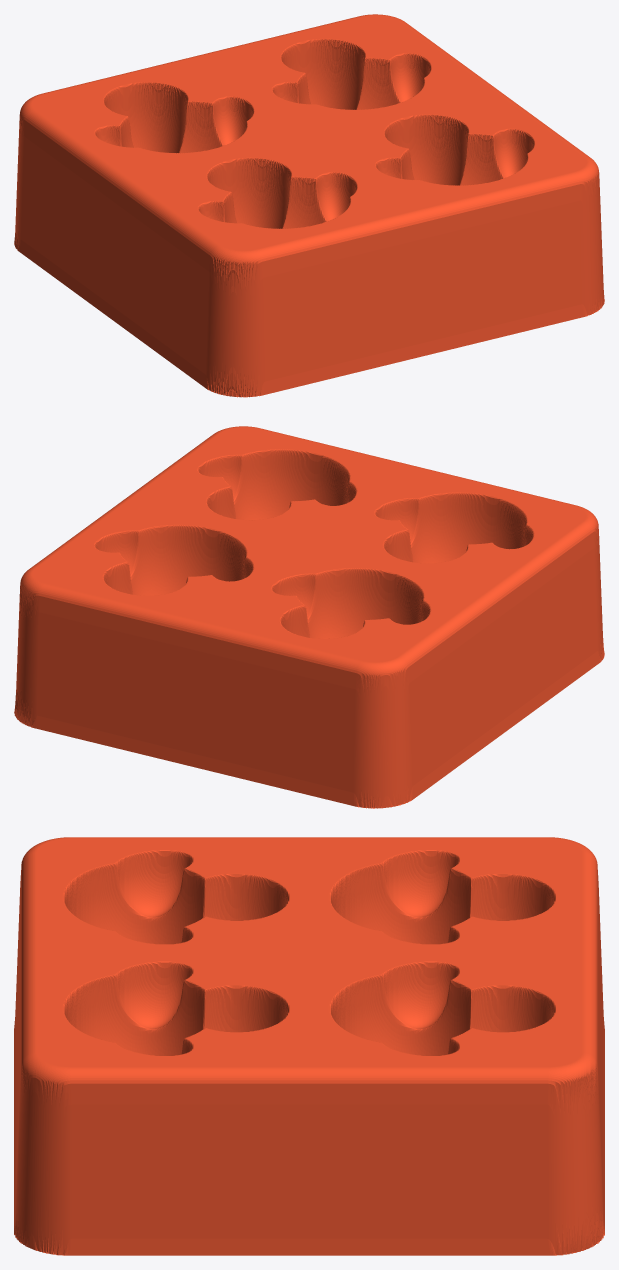
Rendered from mold.glb.
3 renders of one model, top to bottom at view 1: azimuth 30°, elevation 25°; view 2: azimuth 150°, elevation 25°; view 3: azimuth 270°, elevation 25°, orthographic. The views are drawn at different scales.
Visible parts, largest first — view 1: geometry_0; view 2: geometry_0; view 3: geometry_0.
Boxes of the visible parts, bbox=[...] form: geometry_0: bbox=[14, 14, 604, 397]; geometry_0: bbox=[14, 426, 604, 808]; geometry_0: bbox=[14, 837, 604, 1255].
Bounding box in the file's own units: 0.0928 × 0.0313 × 0.0936.
